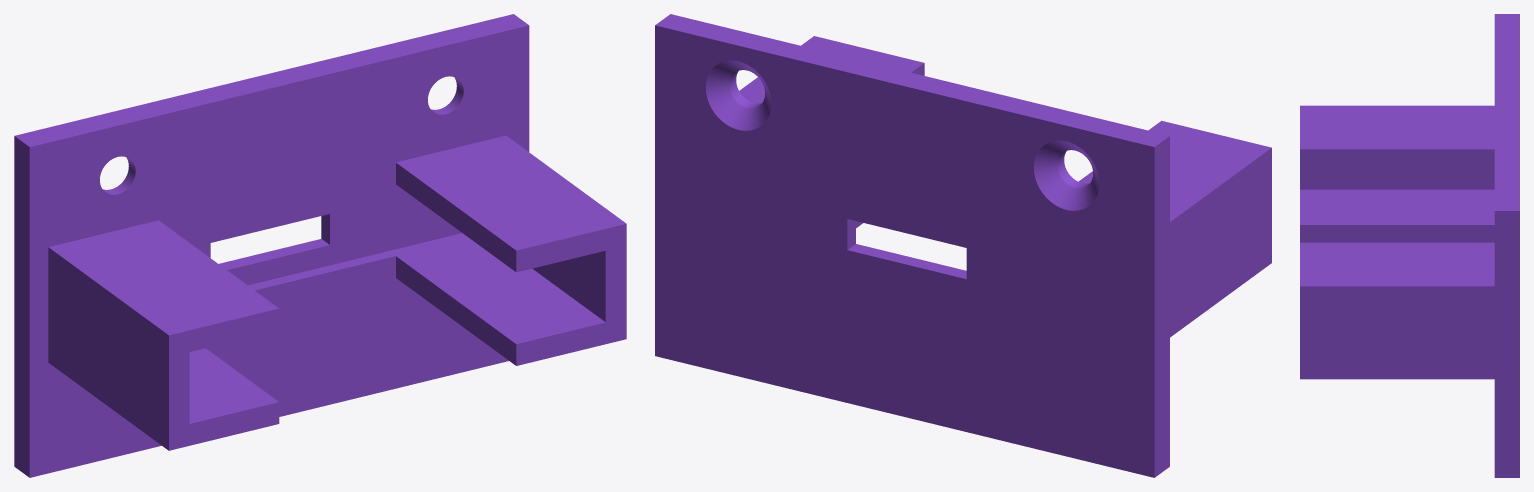
File: charger_lid.glb
3 views of the same model, side by side, from view 1: azimuth 30°, elevation 25°; view 2: azimuth 150°, elevation 25°; view 3: azimuth 270°, elevation 25° (orthographic). The views are drawn at different scales.
Visible parts, largest first — view 1: Open CASCADE STEP translator 7.9 6; view 2: Open CASCADE STEP translator 7.9 6; view 3: Open CASCADE STEP translator 7.9 6.
Boxes of the visible parts, box(x1,y1,x2,y2) form: Open CASCADE STEP translator 7.9 6: box(14, 14, 626, 477); Open CASCADE STEP translator 7.9 6: box(655, 14, 1271, 477); Open CASCADE STEP translator 7.9 6: box(1300, 14, 1519, 477).
Size of the model in its own units: 0.0335 by 0.0212 by 0.0158.
